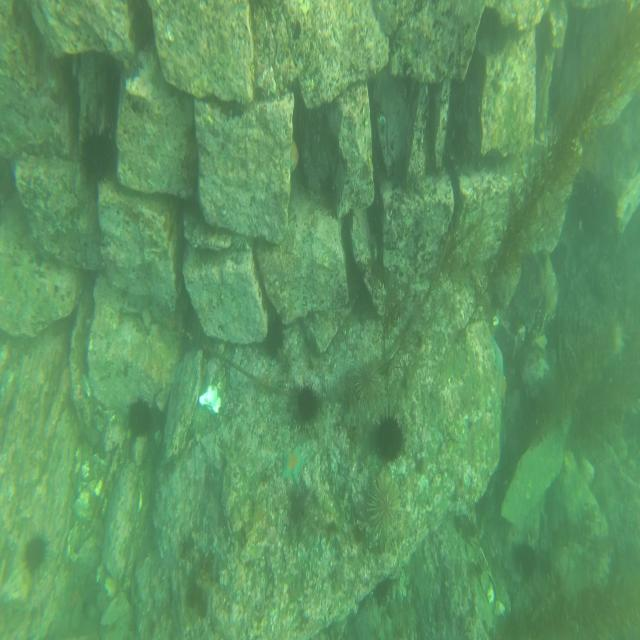echinus: (366, 472, 406, 543), (77, 128, 117, 184), (371, 408, 410, 465), (348, 355, 390, 406), (19, 525, 52, 579), (124, 391, 157, 443), (292, 375, 324, 428)
scallop: (197, 381, 223, 418)
starfish: (281, 441, 307, 490), (285, 132, 301, 180), (491, 334, 504, 379)
